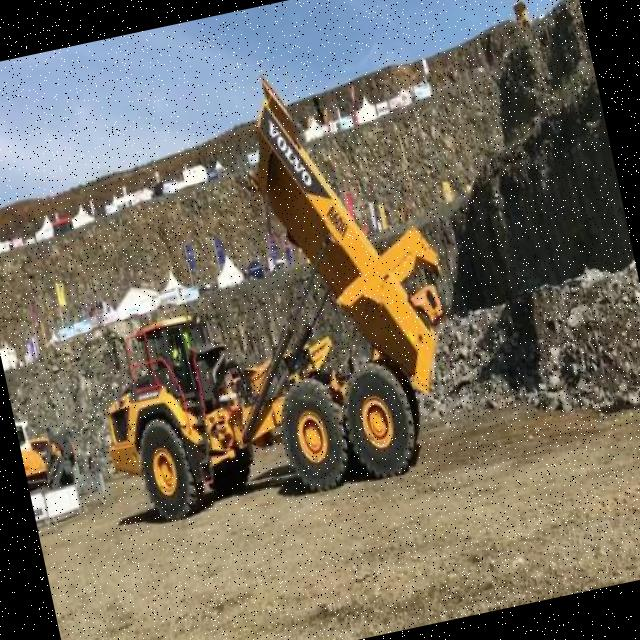Dump Truck: (34, 42, 483, 540)
